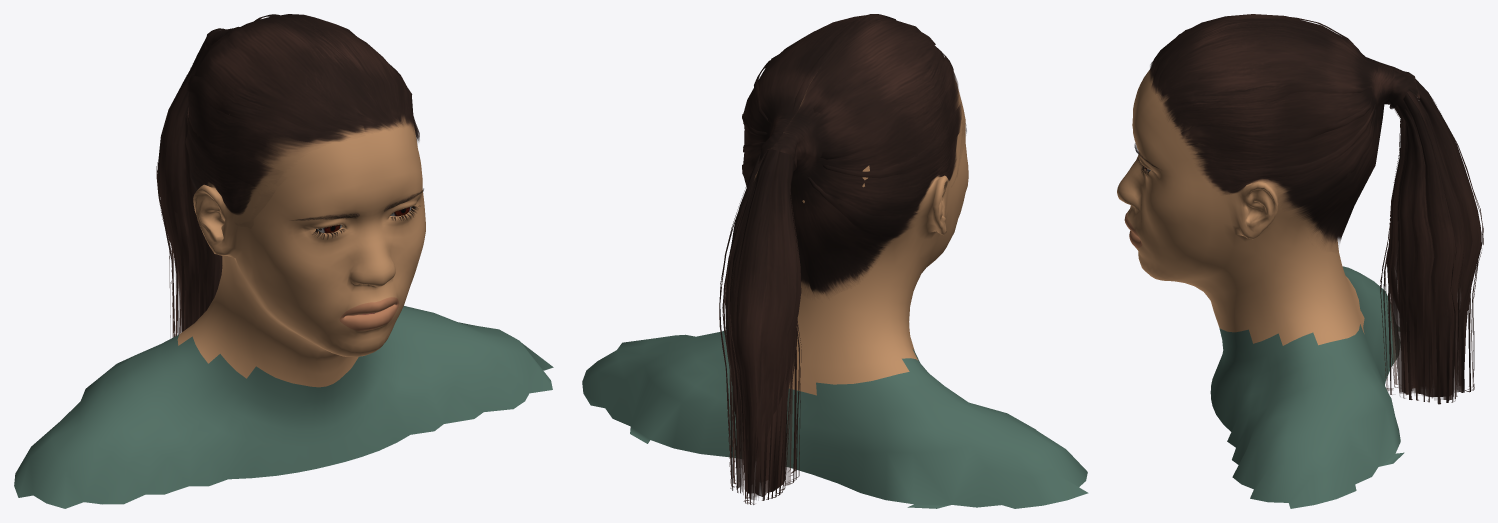
The model's file is man-07.glb.
The picture shows the model from 3 angles, left to right: view 1: azimuth 30°, elevation 25°; view 2: azimuth 150°, elevation 25°; view 3: azimuth 270°, elevation 25°; orthographic projection. The views are drawn at different scales.
Visible parts, largest first — view 1: mpfb-face, mpfb-face.ponytail01; view 2: mpfb-face.ponytail01, mpfb-face; view 3: mpfb-face.ponytail01, mpfb-face.
Boxes of the visible parts, x1,y1,x2,y2 form: mpfb-face: (14,116,553,508); mpfb-face.ponytail01: (156,14,419,338); mpfb-face.ponytail01: (719,14,961,504); mpfb-face: (582,81,1088,508); mpfb-face.ponytail01: (1149,14,1483,404); mpfb-face: (1117,69,1404,508).
Bounding box in the file's own units: 0.4535 × 0.3383 × 0.3017.
Materials: 9 (6 with a texture image).
